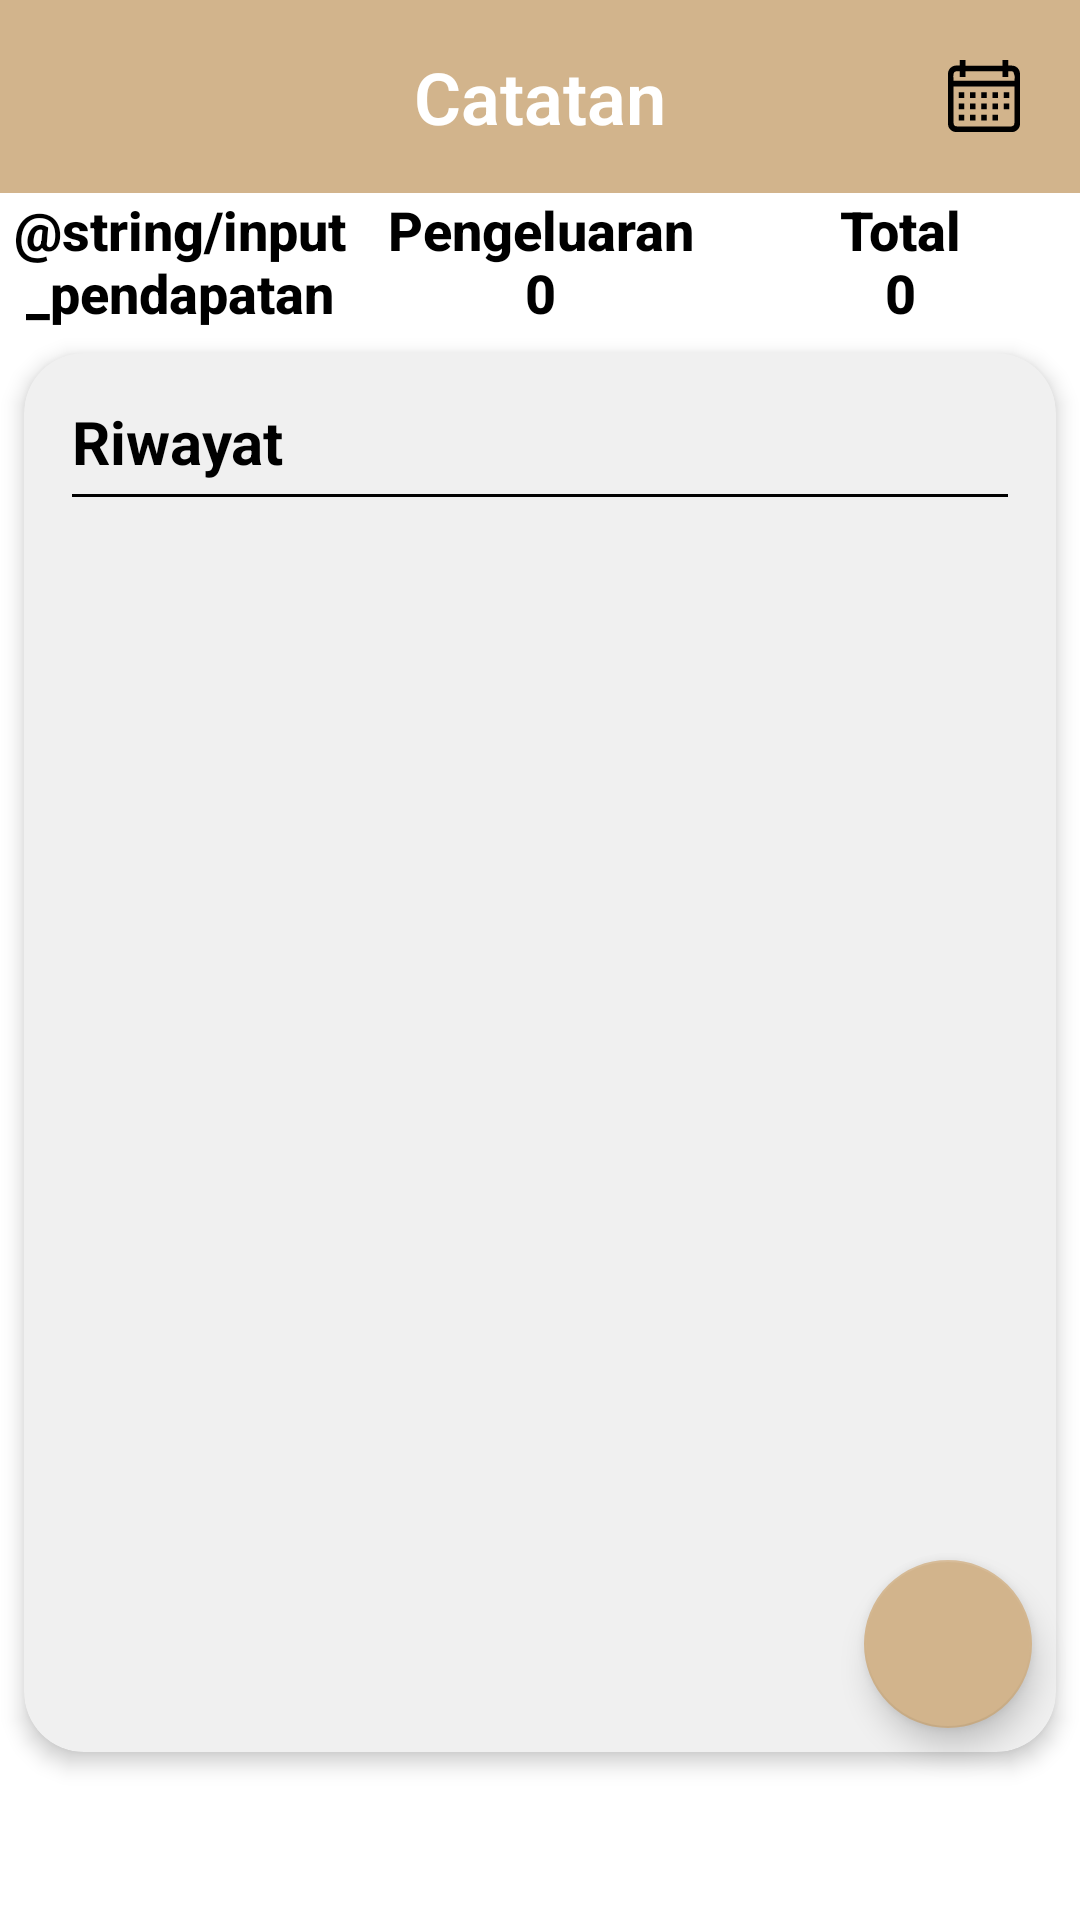

Where icons sit on this 1080×1920 app screen, as {"x1": x1, "y1": y1, "x2": x2, "y2": y2}:
Calendar: {"x1": 948, "y1": 60, "x2": 1020, "y2": 132}
